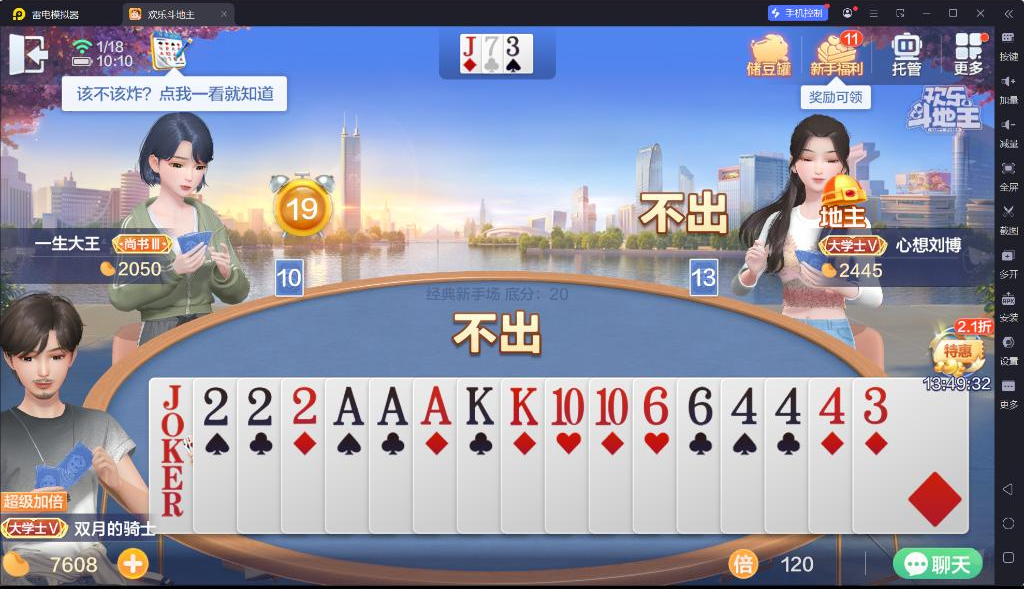A: (332, 383, 366, 429), (418, 382, 453, 426), (374, 383, 409, 426)
J: (461, 35, 478, 57)
JOKER: (158, 382, 188, 465)
K: (506, 382, 540, 428), (463, 383, 495, 427)
four: (727, 384, 759, 426), (772, 386, 804, 426), (817, 386, 847, 426)
seven: (482, 35, 501, 57)
six: (684, 383, 714, 427), (640, 383, 670, 426)
ten: (548, 382, 586, 428), (593, 382, 630, 428)
three: (861, 384, 888, 426), (505, 35, 521, 58)
two: (200, 383, 232, 429), (244, 384, 276, 428), (289, 383, 321, 427)
